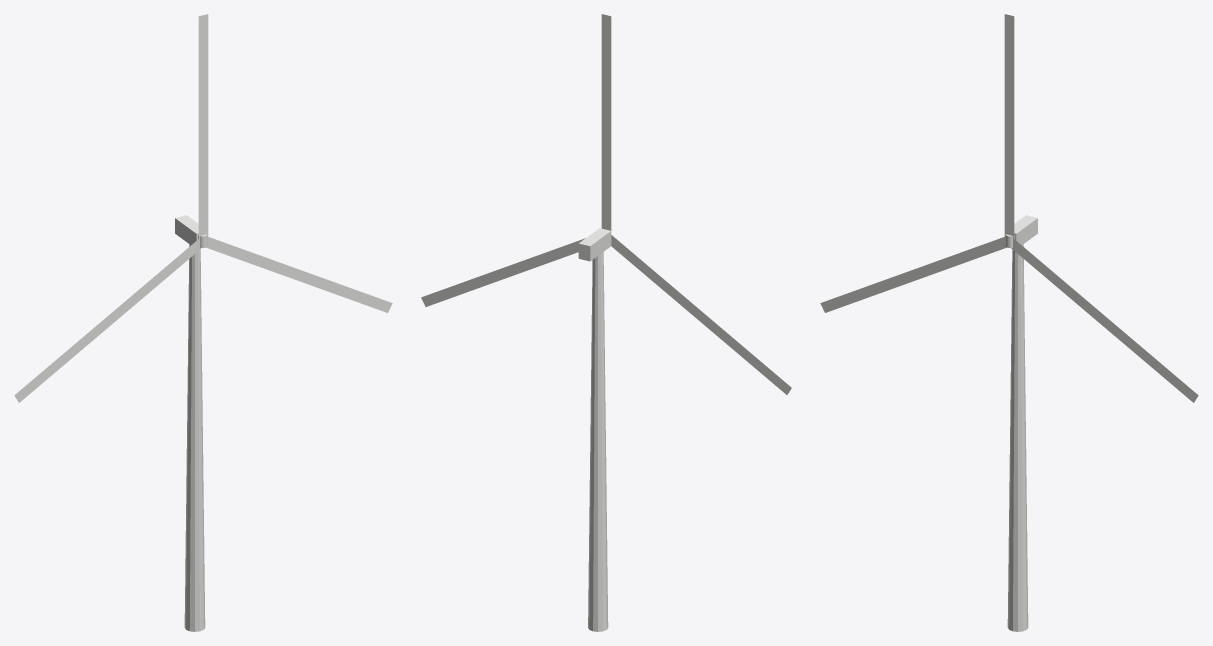
The model's file is eolienne.glb.
3 renders of one model, left to right at view 1: azimuth 30°, elevation 25°; view 2: azimuth 150°, elevation 25°; view 3: azimuth 330°, elevation 25°, orthographic. The views are drawn at different scales.
Visible parts, largest first — view 1: eolienne; view 2: eolienne; view 3: eolienne.
Boxes of the visible parts, x1=… form: eolienne: x1=14, y1=14, x2=392, y2=631; eolienne: x1=421, y1=14, x2=791, y2=631; eolienne: x1=820, y1=14, x2=1198, y2=631.
Size of the model in its own units: 102 by 159 by 11.2.
Materials: 1 (1 with a texture image).
